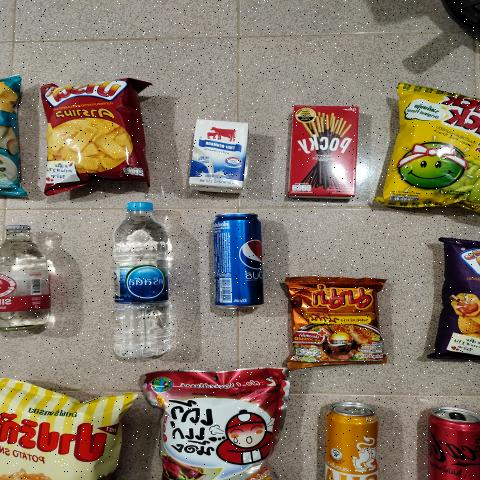coke_red: (430, 406, 480, 480)
crystal: (109, 195, 170, 366)
mama: (296, 280, 378, 361)
party_red: (43, 80, 139, 191)
pepsi_blue: (213, 213, 265, 307)
pokki: (288, 105, 360, 199)
singha_yellow: (327, 407, 377, 480)
snack_jack: (374, 88, 480, 206)
taokaenoi: (160, 365, 286, 480)
thai_denmark: (189, 120, 249, 194)
